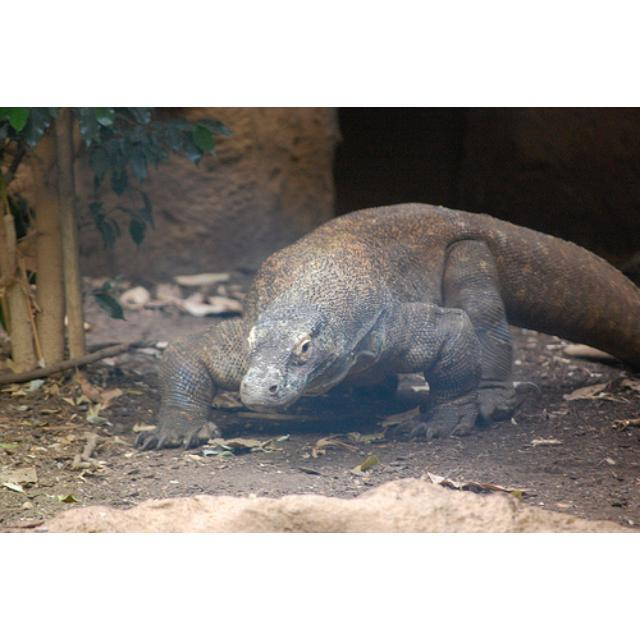KomodoDragon: (131, 202, 636, 450)
